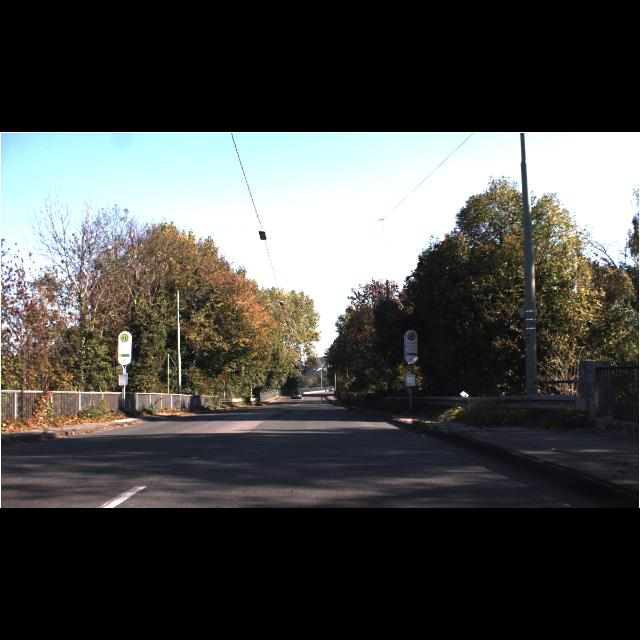prohibitory: (384, 367, 394, 377)
